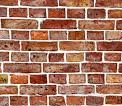brick: (40, 18, 77, 30), (1, 18, 39, 29), (3, 62, 41, 73), (58, 40, 95, 51), (79, 19, 115, 30), (19, 85, 57, 95), (21, 41, 58, 51), (43, 63, 80, 73), (80, 63, 117, 72), (58, 85, 95, 93), (97, 40, 122, 50), (96, 85, 122, 94), (21, 1, 59, 7), (86, 8, 106, 19), (29, 29, 49, 40), (59, 1, 94, 7), (1, 40, 21, 50), (9, 7, 27, 18), (28, 7, 46, 18), (94, 1, 122, 8), (10, 96, 29, 106), (48, 8, 66, 18), (67, 8, 85, 18), (10, 52, 30, 61), (65, 52, 85, 61), (10, 74, 28, 84), (49, 74, 67, 84), (87, 74, 105, 84), (48, 96, 66, 106), (50, 30, 67, 40), (48, 52, 65, 62), (86, 52, 103, 62), (1, 85, 18, 95), (29, 96, 46, 106), (11, 30, 29, 39), (86, 31, 104, 40), (29, 53, 47, 62), (104, 53, 122, 62), (68, 74, 86, 83), (86, 96, 104, 105), (30, 75, 47, 84), (68, 31, 86, 39), (66, 97, 84, 105), (108, 8, 122, 18), (105, 96, 122, 104), (106, 31, 121, 40), (106, 74, 122, 82), (1, 1, 20, 6), (1, 50, 9, 61), (1, 29, 10, 38), (1, 95, 9, 105)
